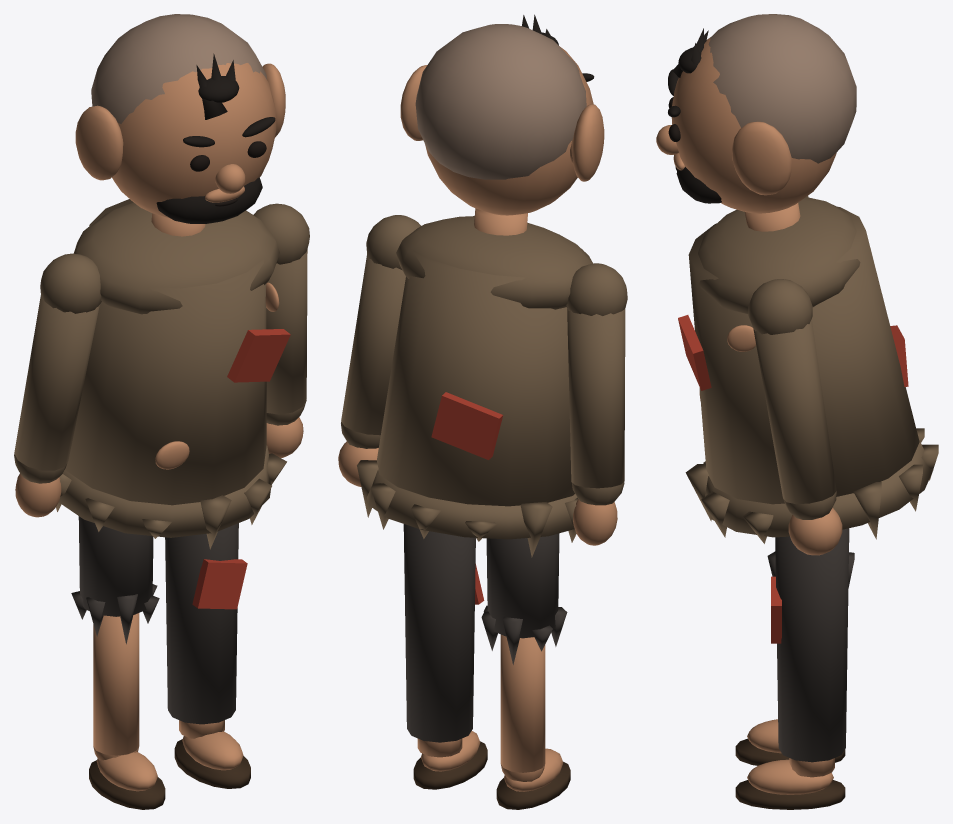
File: villager_ong_rach.glb
3 renders of one model, left to right at view 1: azimuth 30°, elevation 25°; view 2: azimuth 150°, elevation 25°; view 3: azimuth 270°, elevation 25°, orthographic. The views are drawn at different scales.
Parts seen in each view (by area): view 1: Body, Head, LegR, LegL, ArmL, ArmR; view 2: Body, Head, LegR, LegL, ArmL, ArmR; view 3: Body, Head, LegR, ArmR, LegL.
Boxes of the visible parts, x1,y1,x2,y2 form: Body: (56, 199, 290, 549); Head: (75, 14, 285, 223); LegR: (165, 523, 250, 788); LegL: (71, 516, 165, 809); ArmL: (14, 253, 101, 517); ArmR: (253, 203, 309, 457); Body: (357, 208, 592, 557); Head: (400, 14, 604, 215); LegR: (403, 524, 487, 789); LegL: (481, 533, 570, 809); ArmL: (566, 263, 627, 545); ArmR: (338, 215, 420, 486); Body: (678, 197, 938, 543); Head: (656, 14, 856, 213); LegR: (735, 528, 849, 809); ArmR: (748, 279, 842, 555); LegL: (735, 551, 854, 765).
Bounding box in the file's own units: 0.6 × 1.53 × 0.5196.
